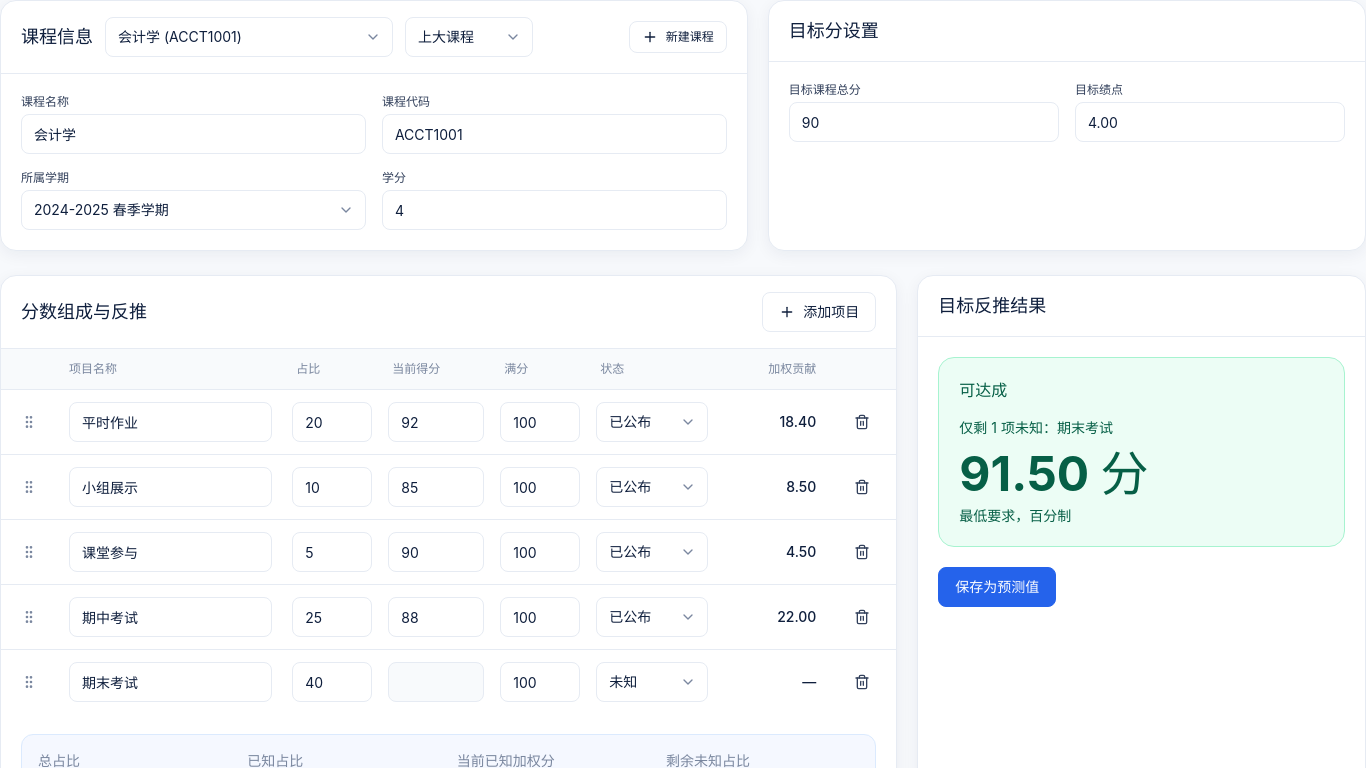
Test: GradePilot UI › updates readonly target fields when course target changes
Replace the text in the number field labelled "目标课程总分" with "75" at {"x": 924, "y": 122}, box top-left (789, 102), bottom-right (1059, 142)
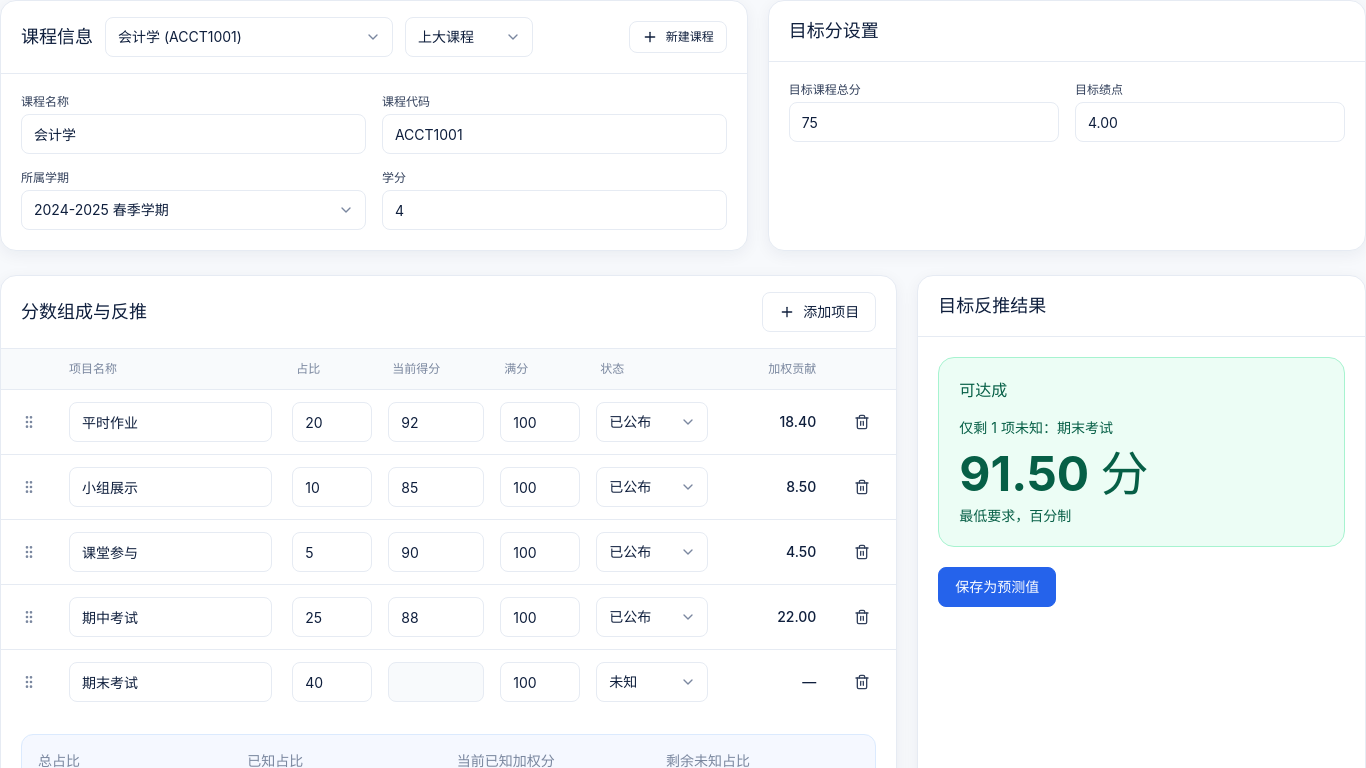
Leave the number field labelled "目标课程总分", box top-left (789, 102), bottom-right (1059, 142)
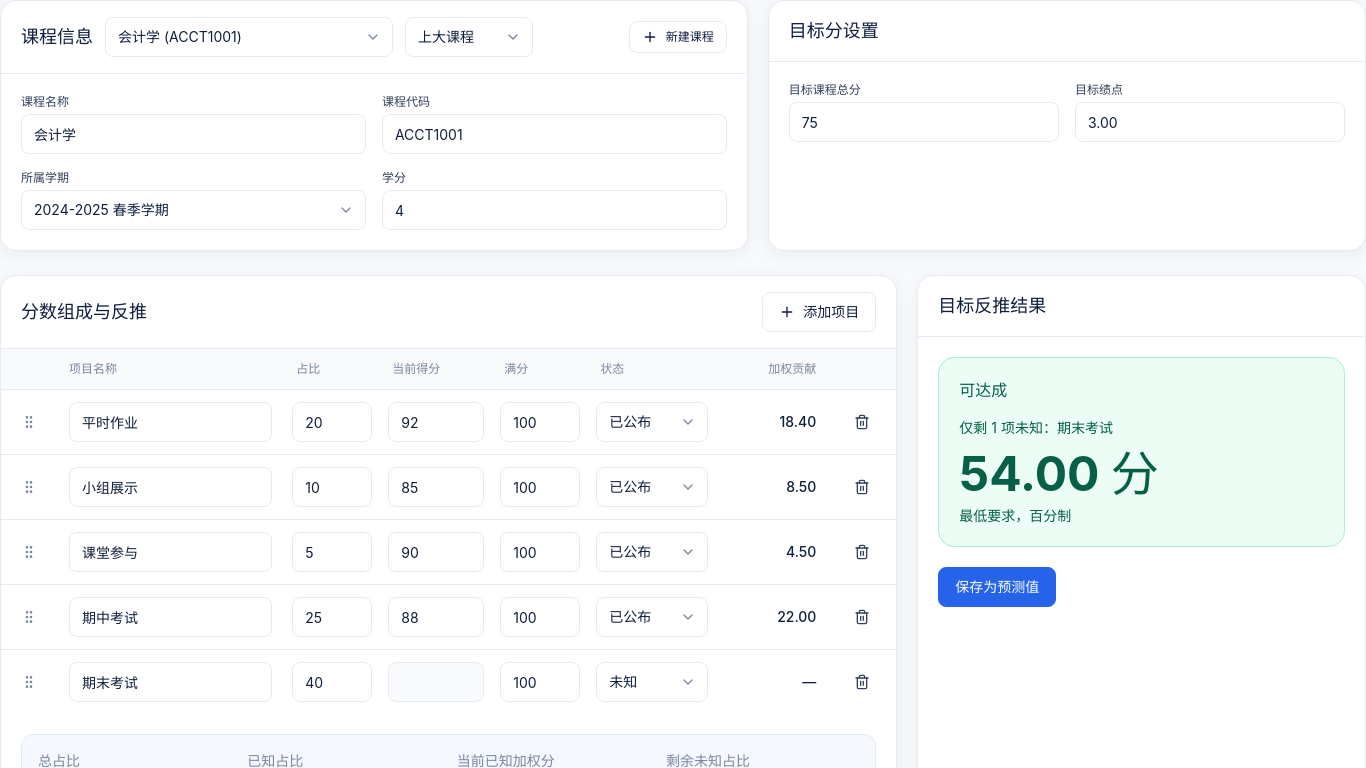
Result: the field labelled "目标绩点" holds "3.00" at top-left (1075, 102), bottom-right (1345, 142)
